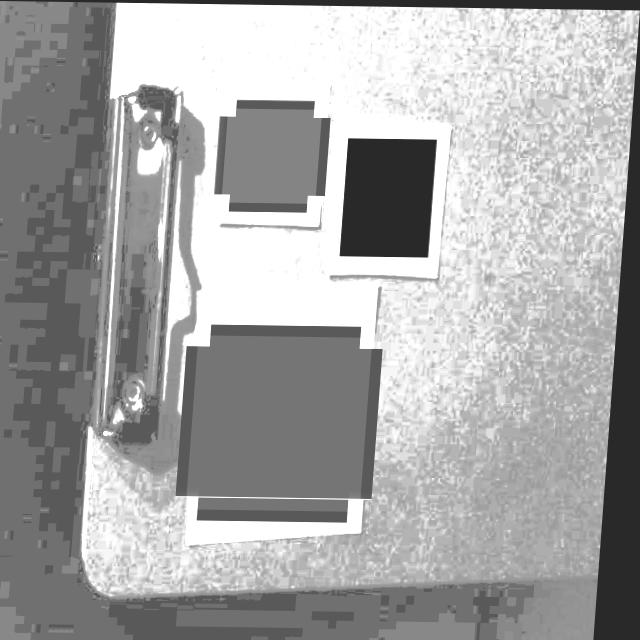qr_code: (194, 334, 378, 510), (343, 136, 439, 255), (224, 107, 324, 202)
